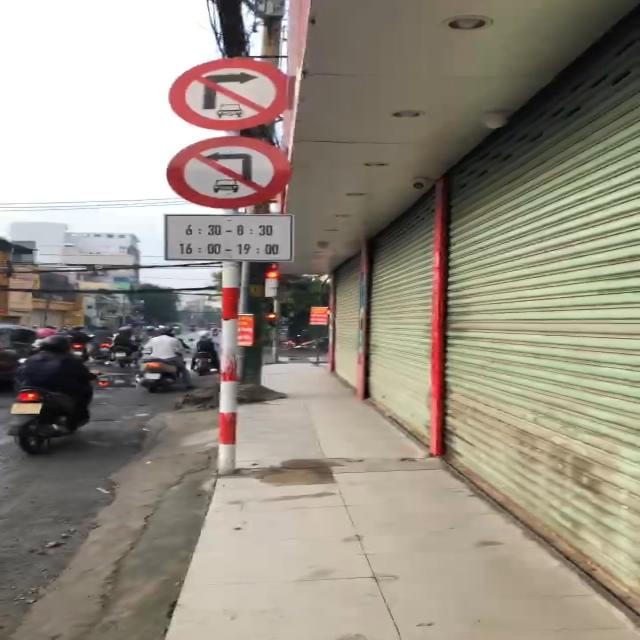Bien bao cam xe o to re phai: (166, 53, 294, 131)
Bien bao cam xe o to re trai: (155, 135, 298, 211)
